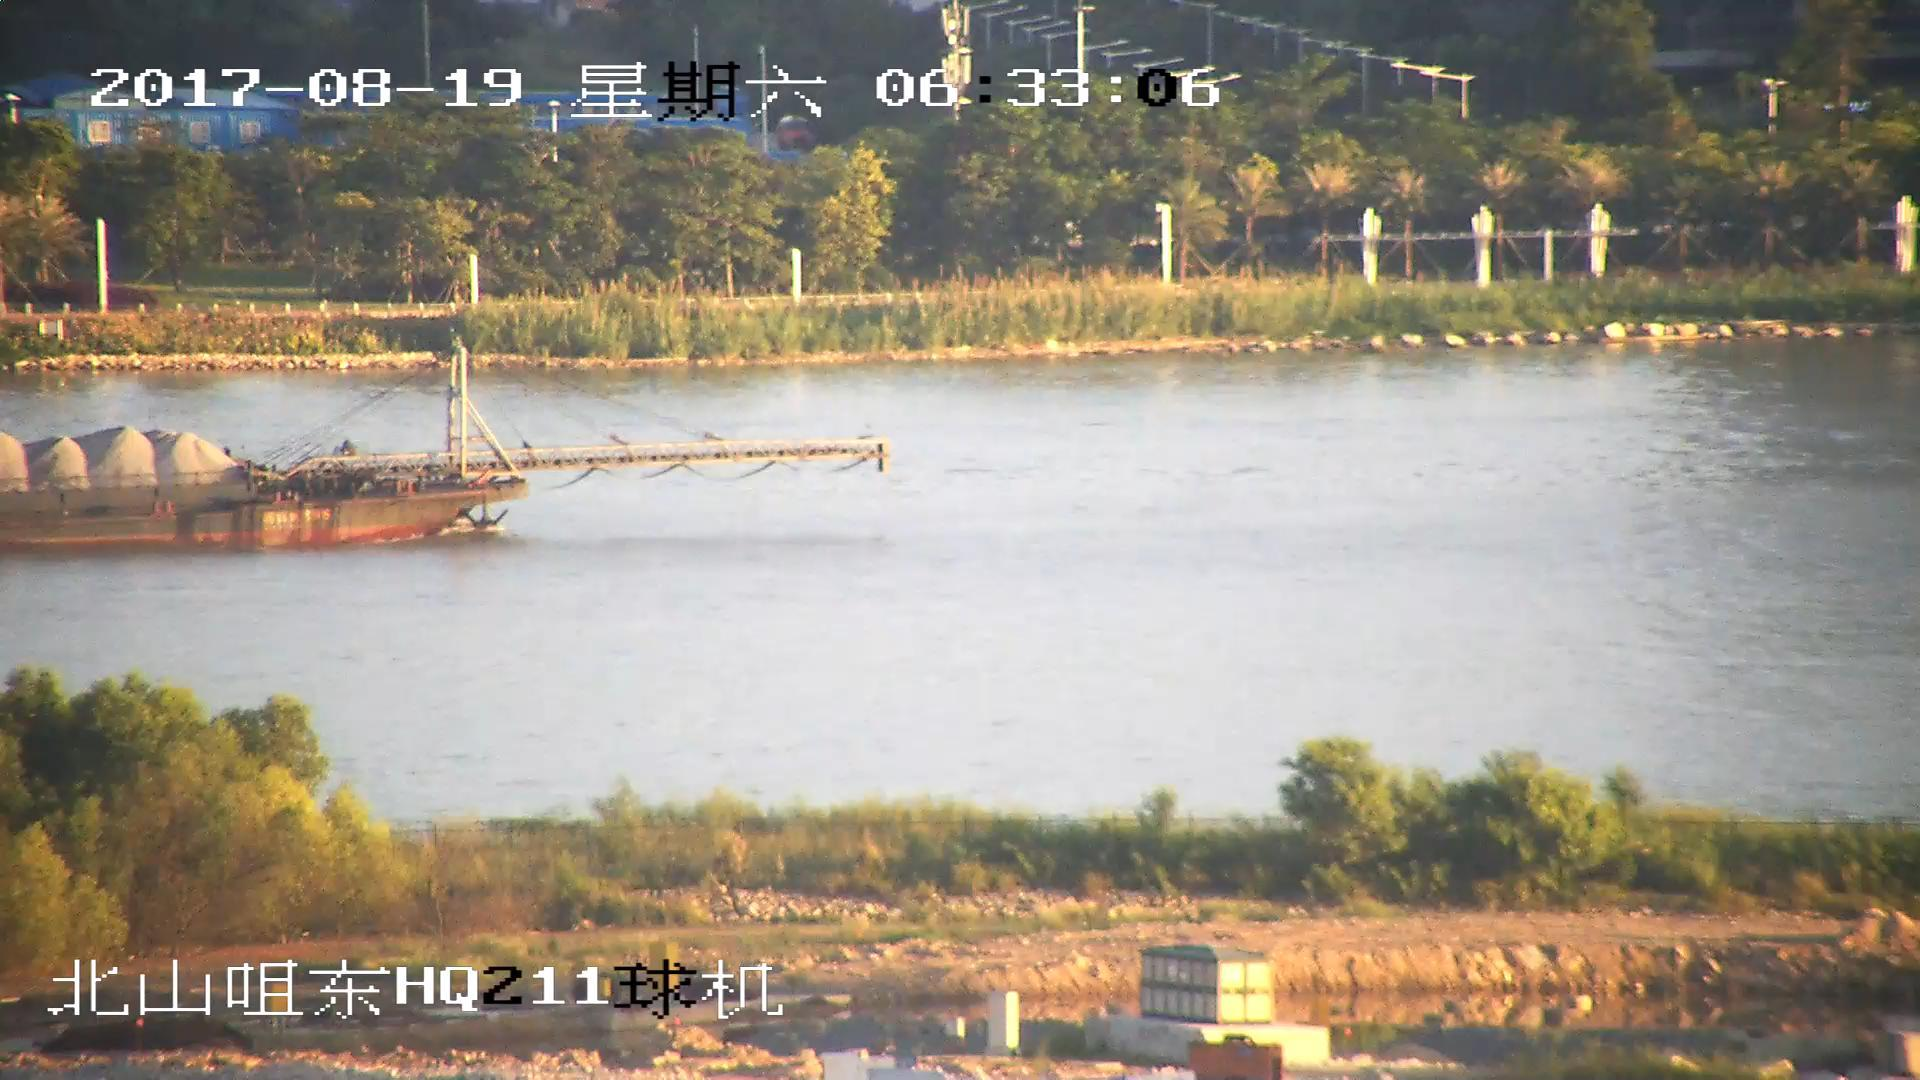Ship: (3, 345, 890, 553)
